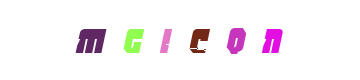C: (140, 0, 220, 80)
G: (93, 0, 173, 80)
I: (135, 0, 215, 80)
M: (53, 0, 133, 80)
N: (214, 0, 294, 80)
Q: (159, 0, 239, 80)
